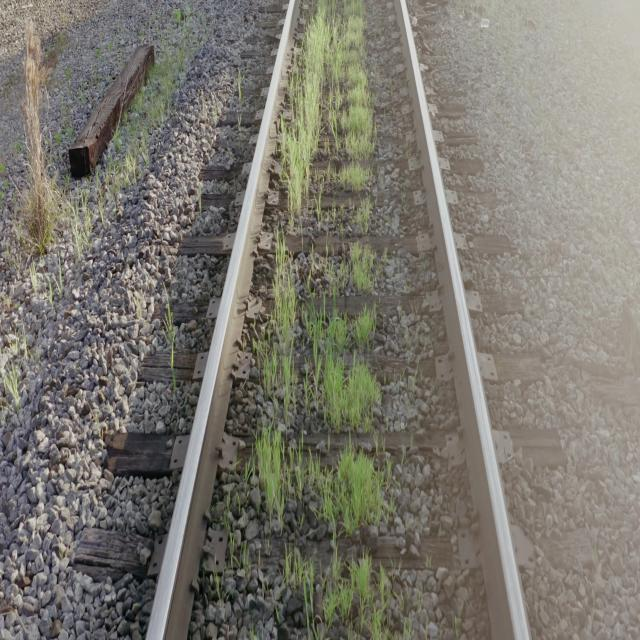Plant: (255, 424, 389, 638), (280, 0, 376, 229), (302, 304, 381, 431), (254, 229, 299, 422), (324, 242, 379, 300), (350, 198, 370, 231)
